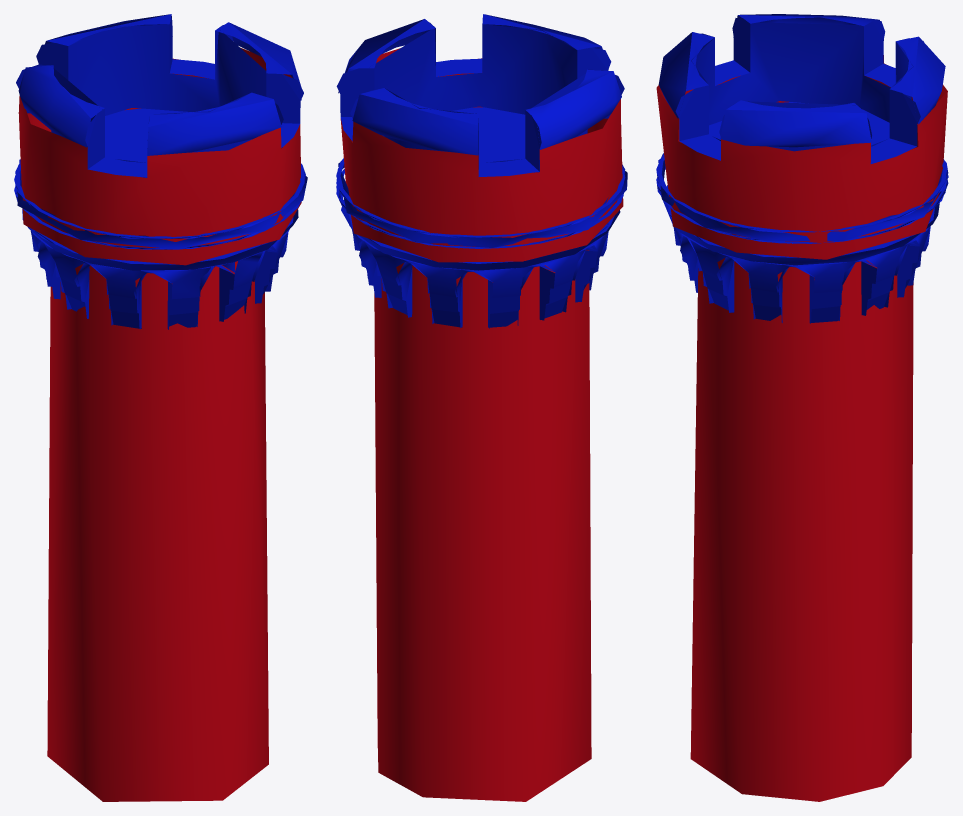
File: Tower (2).fbx
3 views of the same model, side by side, from view 1: azimuth 30°, elevation 25°; view 2: azimuth 150°, elevation 25°; view 3: azimuth 270°, elevation 25° (orthographic).
Visible parts, largest first — view 1: Tower.001; view 2: Tower.001; view 3: Tower.001.
Boxes of the visible parts, box(x1,y1,x2,y2) form: Tower.001: box(14, 14, 307, 801); Tower.001: box(336, 14, 627, 801); Tower.001: box(656, 14, 948, 801).
Bounding box in the file's own units: 552 × 1448 × 553.
